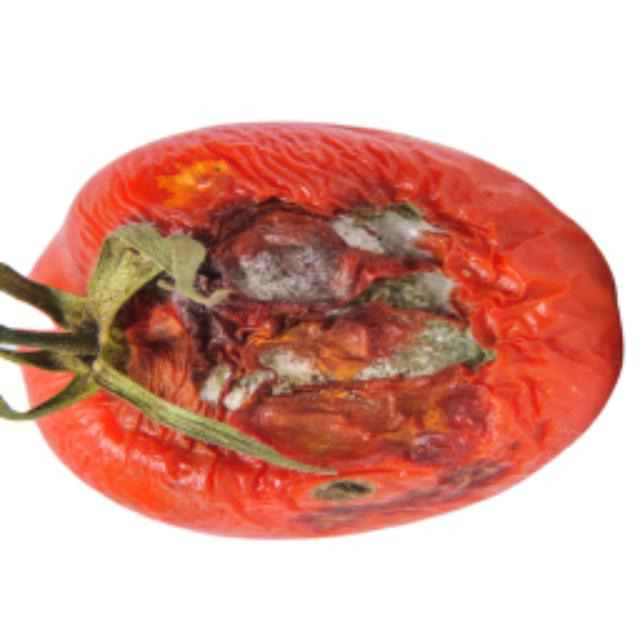defect: (21, 117, 632, 542)
